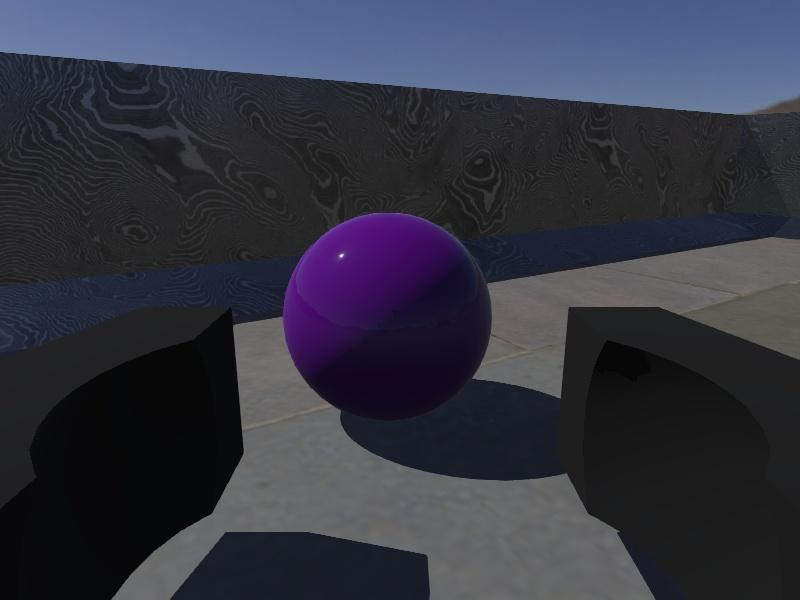violet ball: (282, 211, 494, 422)
